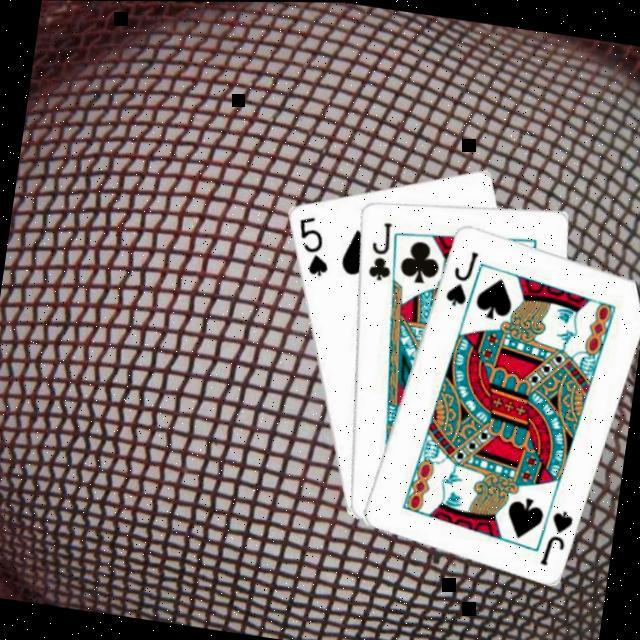5S: (288, 210, 338, 278)
JC: (362, 215, 400, 282)
JS: (440, 242, 480, 308), (536, 504, 576, 570)
